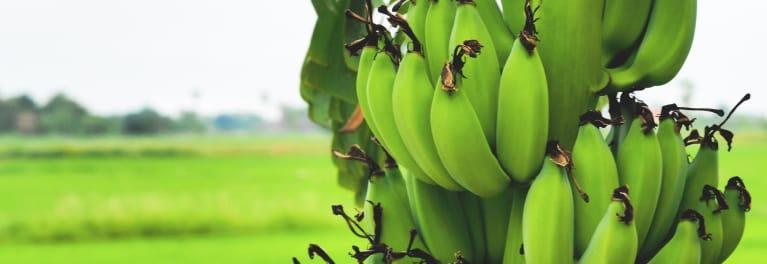Banana Unripe: (323, 0, 747, 264)
